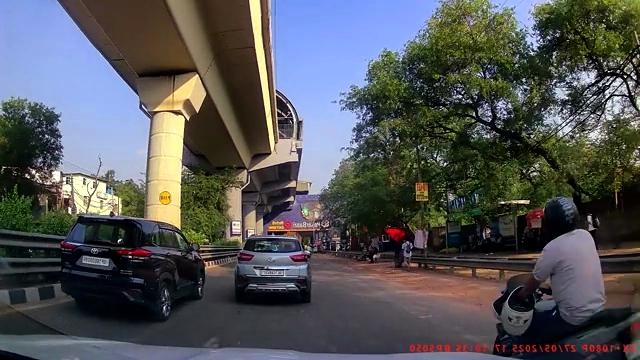motorcycle_with_helmet: (491, 195, 639, 357)
